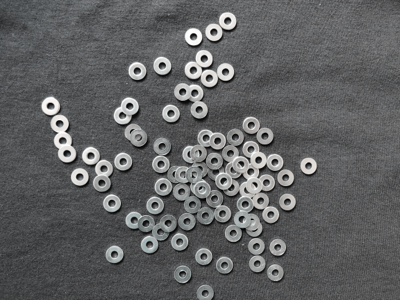circle: (217, 12, 239, 33), (215, 62, 237, 82), (41, 96, 61, 116), (103, 195, 122, 215), (185, 27, 204, 47), (257, 126, 275, 147), (71, 168, 90, 187), (82, 146, 101, 165), (105, 246, 124, 265), (267, 264, 286, 283), (53, 132, 73, 150), (50, 115, 70, 133), (201, 69, 219, 89), (206, 23, 224, 43), (216, 256, 234, 276), (59, 145, 77, 164), (94, 175, 112, 194), (95, 160, 113, 179), (114, 106, 132, 125), (121, 98, 140, 116), (154, 179, 173, 197), (152, 156, 171, 174), (174, 83, 192, 102), (176, 165, 194, 184), (184, 196, 203, 214), (245, 220, 264, 238), (250, 255, 268, 274), (215, 204, 232, 224), (301, 156, 318, 176), (115, 154, 133, 172), (129, 63, 147, 81), (141, 237, 159, 255), (154, 137, 172, 155), (185, 62, 203, 80), (182, 146, 200, 164), (243, 117, 261, 135), (278, 169, 296, 187), (243, 163, 261, 181), (262, 206, 280, 224), (225, 225, 243, 243), (243, 213, 261, 231), (172, 234, 190, 252), (216, 172, 233, 191), (130, 130, 148, 147), (125, 124, 142, 142), (125, 212, 143, 229), (138, 216, 156, 233), (154, 58, 171, 76), (162, 106, 180, 123), (191, 101, 208, 119), (196, 50, 213, 68), (168, 165, 185, 183), (186, 166, 203, 184), (197, 208, 214, 226), (206, 191, 223, 209), (222, 145, 239, 163), (243, 141, 260, 159), (267, 154, 284, 172), (240, 181, 257, 199), (280, 194, 297, 212), (270, 239, 287, 257), (195, 249, 213, 266), (175, 266, 192, 284), (192, 161, 208, 180), (224, 179, 240, 198), (153, 224, 170, 241), (161, 215, 178, 232), (147, 198, 164, 215), (198, 130, 215, 147), (207, 153, 224, 170), (226, 163, 243, 180), (251, 152, 268, 169), (259, 175, 276, 192), (253, 193, 270, 210), (249, 239, 266, 256), (189, 85, 205, 103), (179, 213, 195, 231), (210, 132, 226, 150), (228, 129, 244, 147), (247, 177, 263, 195), (173, 185, 189, 202), (192, 145, 208, 162), (191, 179, 208, 195), (195, 182, 211, 199), (208, 165, 225, 181), (233, 157, 249, 174), (237, 197, 254, 213), (234, 212, 251, 228), (197, 285, 215, 300)
